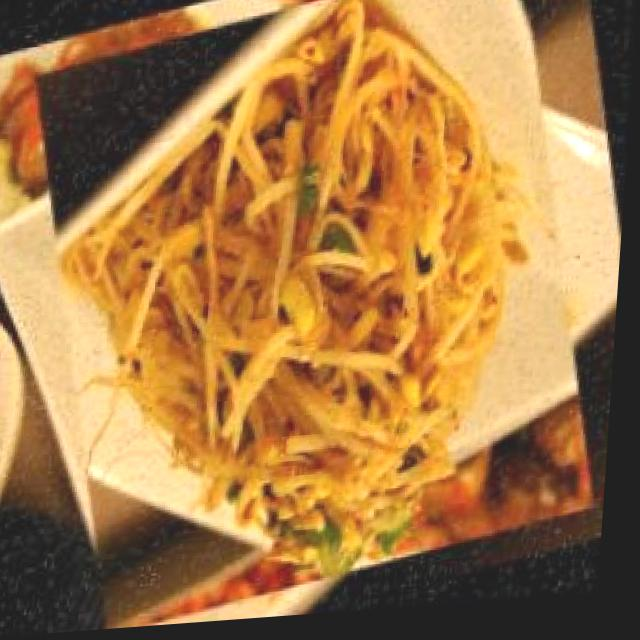mung_bean_sprouts: (4, 0, 631, 638)
